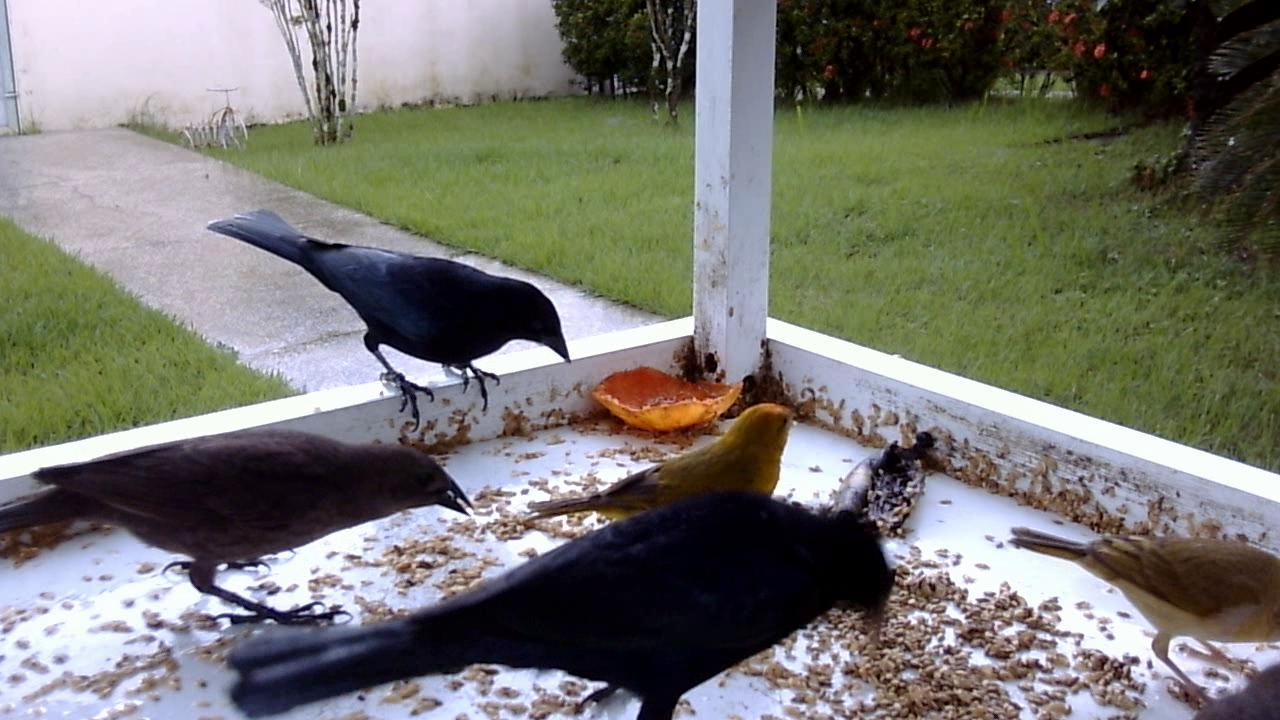canario_do_amazonas: (993, 520, 1280, 720), (512, 403, 805, 534)
chupim: (238, 460, 893, 720), (6, 419, 491, 641), (193, 207, 578, 447)
